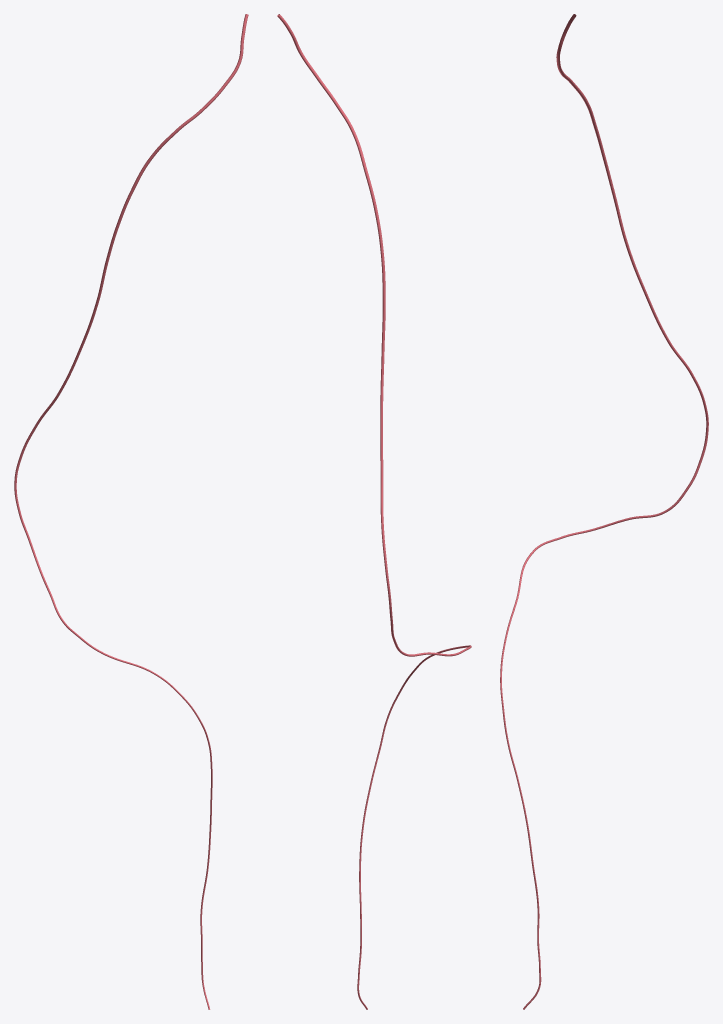
3 views of the same model, side by side, from view 1: azimuth 30°, elevation 25°; view 2: azimuth 150°, elevation 25°; view 3: azimuth 270°, elevation 25° (orthographic). The views are drawn at different scales.
Parts seen in each view (by area): view 1: ZA_2ac9ec3a5688730c; view 2: ZA_2ac9ec3a5688730c; view 3: ZA_2ac9ec3a5688730c.
Part boxes in pixels (bbox=[...]): ZA_2ac9ec3a5688730c: bbox=[14, 14, 248, 1009]; ZA_2ac9ec3a5688730c: bbox=[277, 14, 471, 1009]; ZA_2ac9ec3a5688730c: bbox=[500, 14, 708, 1009].
Bounding box in the file's own units: 0.0723 × 0.3729 × 0.0687.
